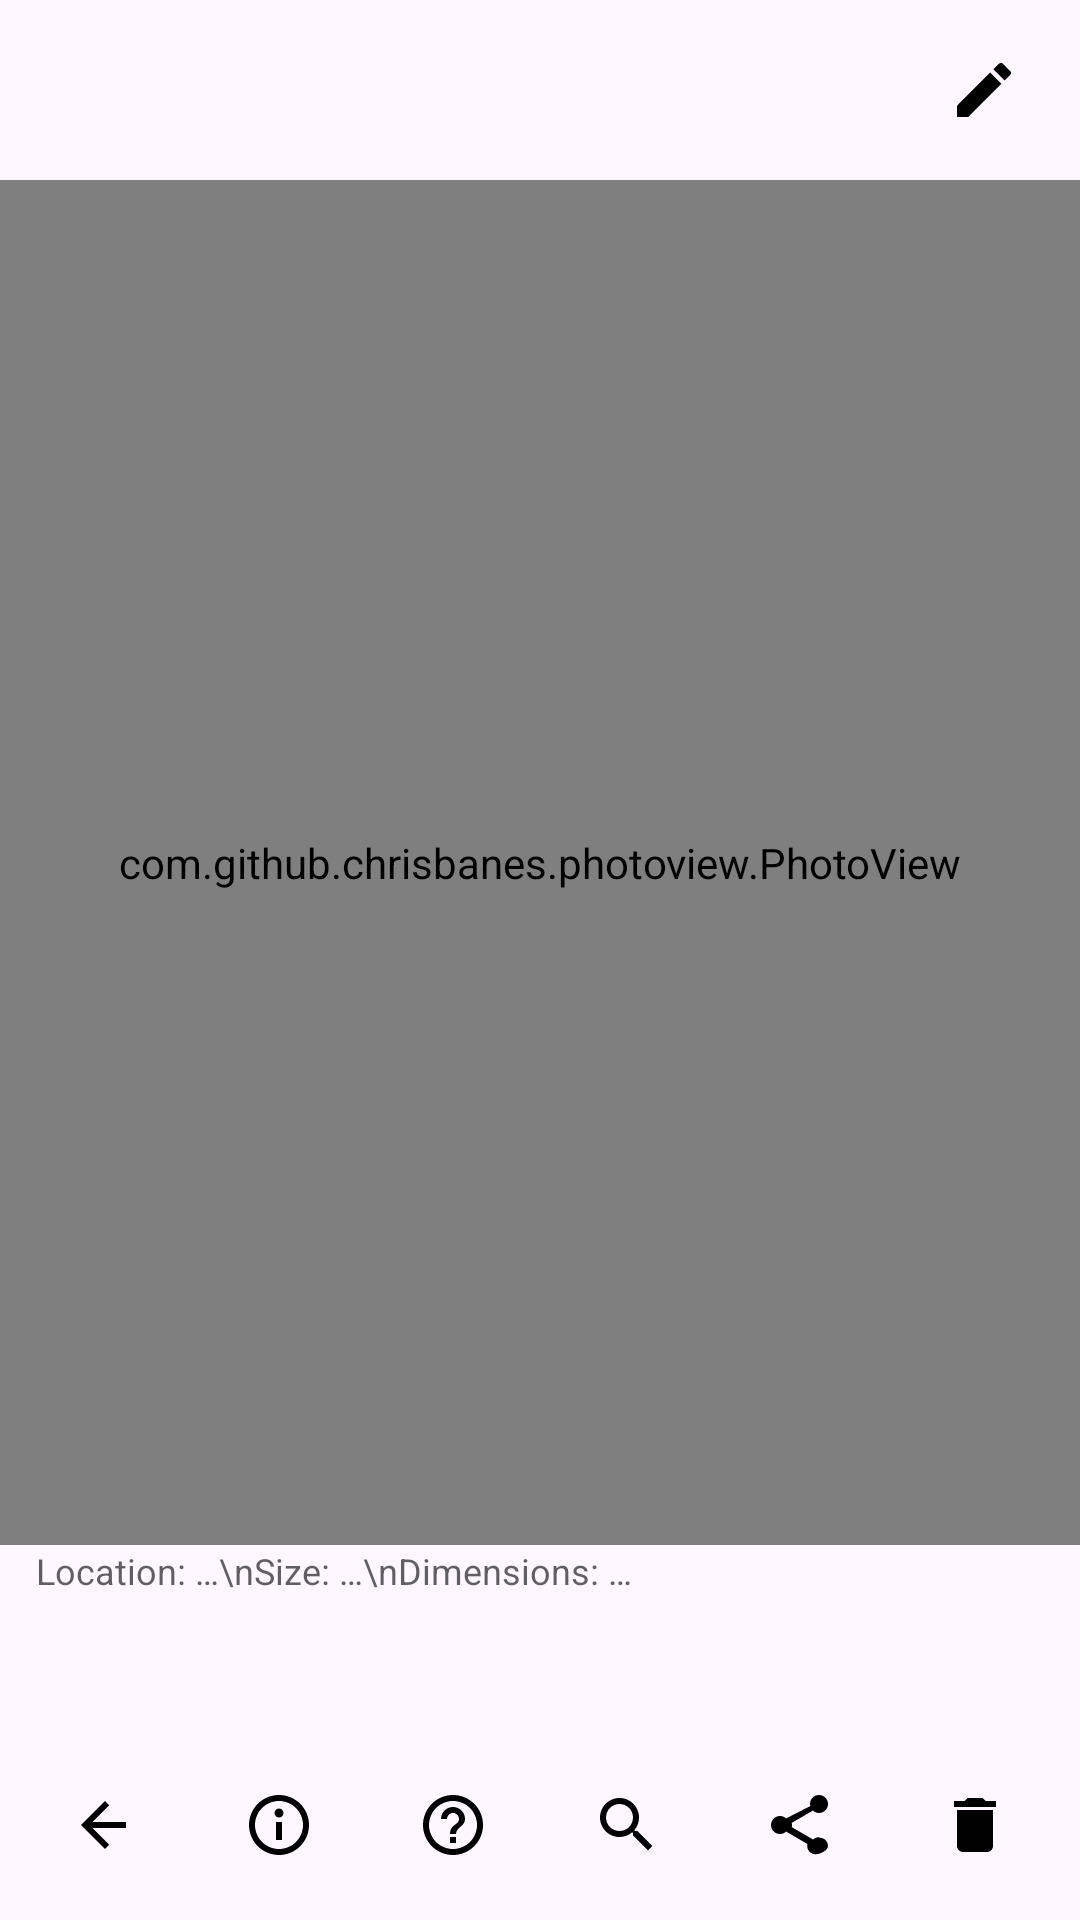

Locate icon controls on the screen. Image size 1080*1920, boxes as (x1, y1, x2, y2).
Back: (81, 1801, 126, 1849)
Delete: (954, 1798, 996, 1852)
Edit: (957, 63, 1011, 117)
Find similar: (600, 1798, 652, 1850)
Info: (249, 1795, 309, 1855)
Share: (771, 1795, 828, 1855)
